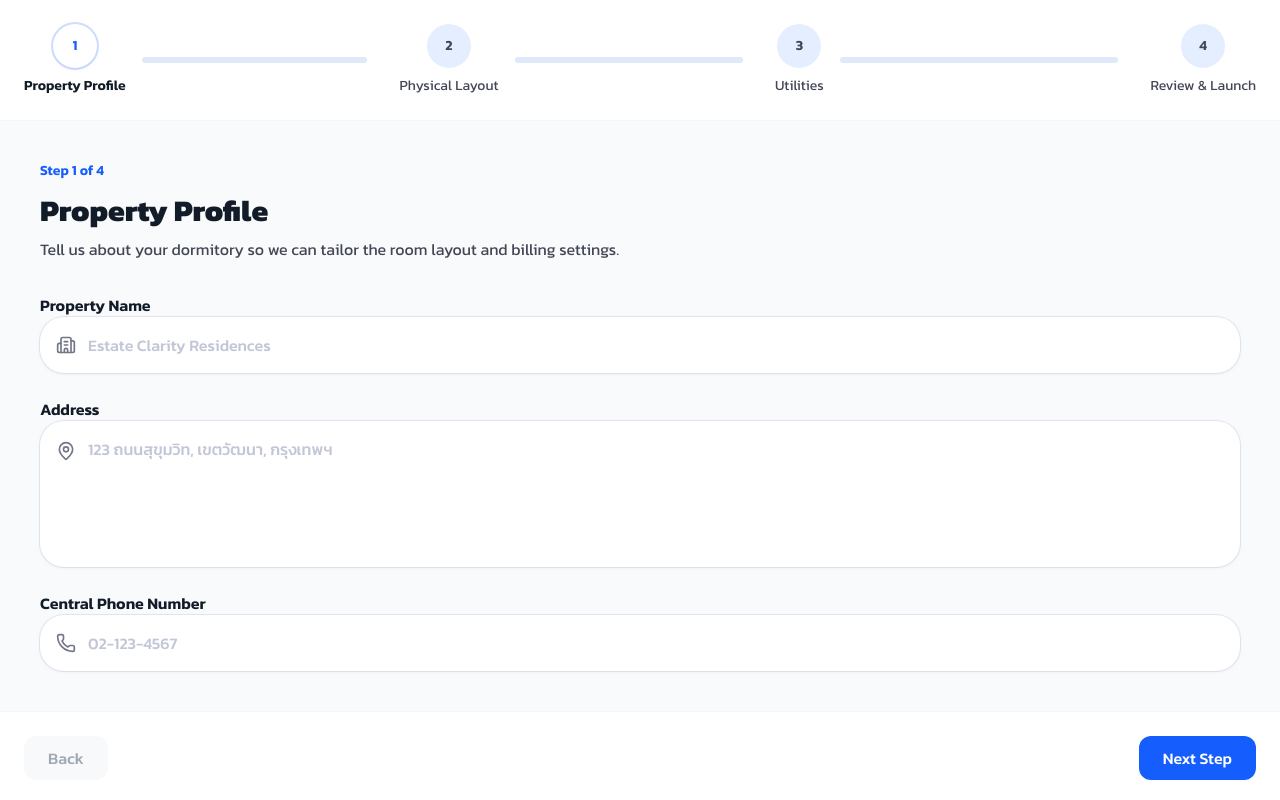
Test: OnboardingWizard › Test A — Required-field validation on Step 0 (Property Profile) › shows Zod error messages for all three required fields when Next is clicked on an empty form
Expected: the text "Step 1 of 4" is shown, [40,160,104,181]
// Click "Next Step" without filling anything
Click the button "Next Step" at [1197, 758], box [1139,736,1256,780]
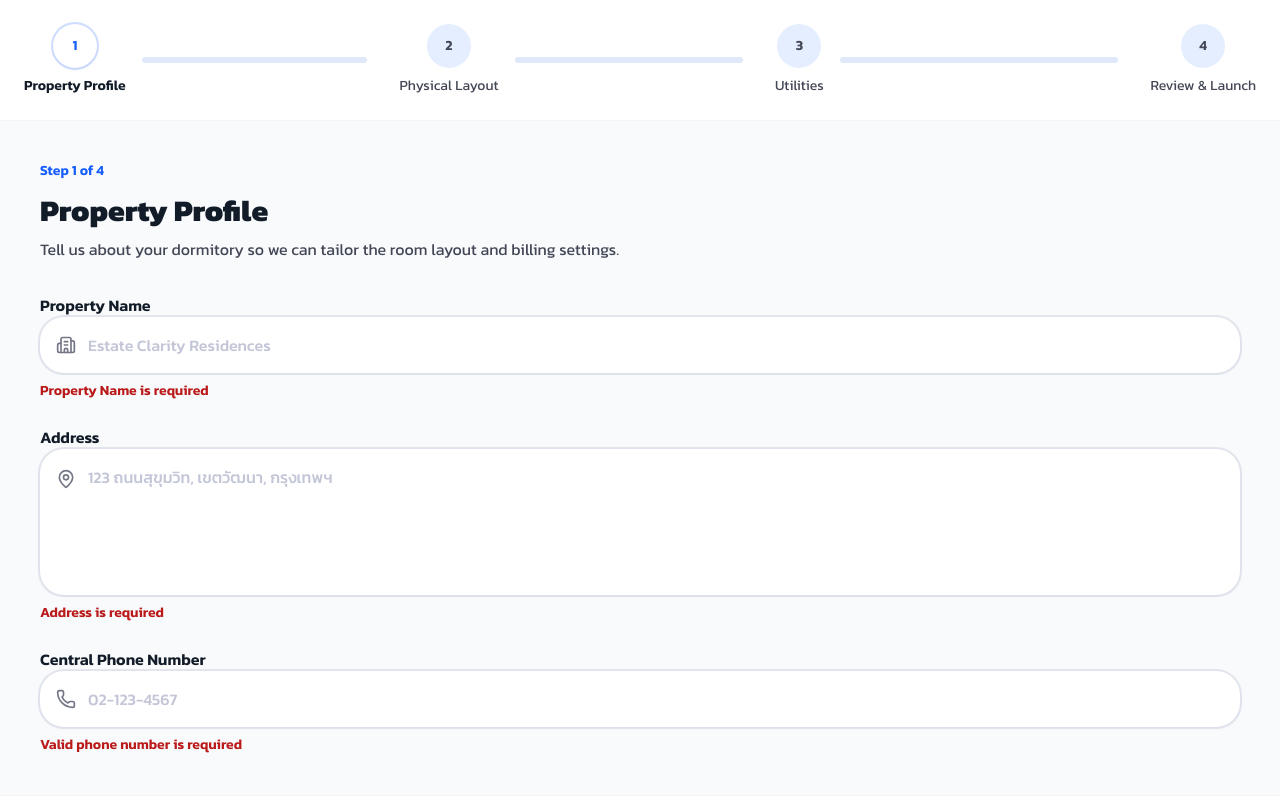
Expected: the text "Property Name is required" is shown, [40,380,209,401]
Expected: the text "Address is required" is shown, [40,602,164,623]
Expected: the text "Valid phone number is required" is shown, [40,734,242,755]
